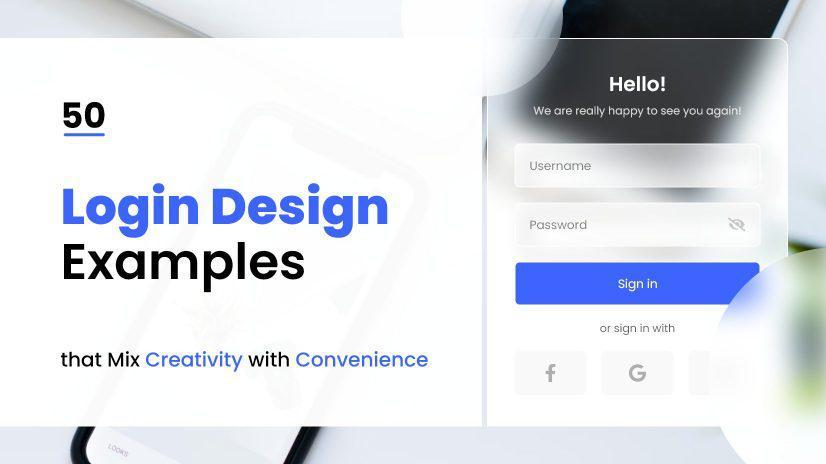button: (516, 263, 760, 306)
icon: (628, 364, 650, 385), (544, 362, 560, 386)
input: (516, 145, 761, 189), (518, 203, 762, 247)
label: (606, 74, 671, 96)
